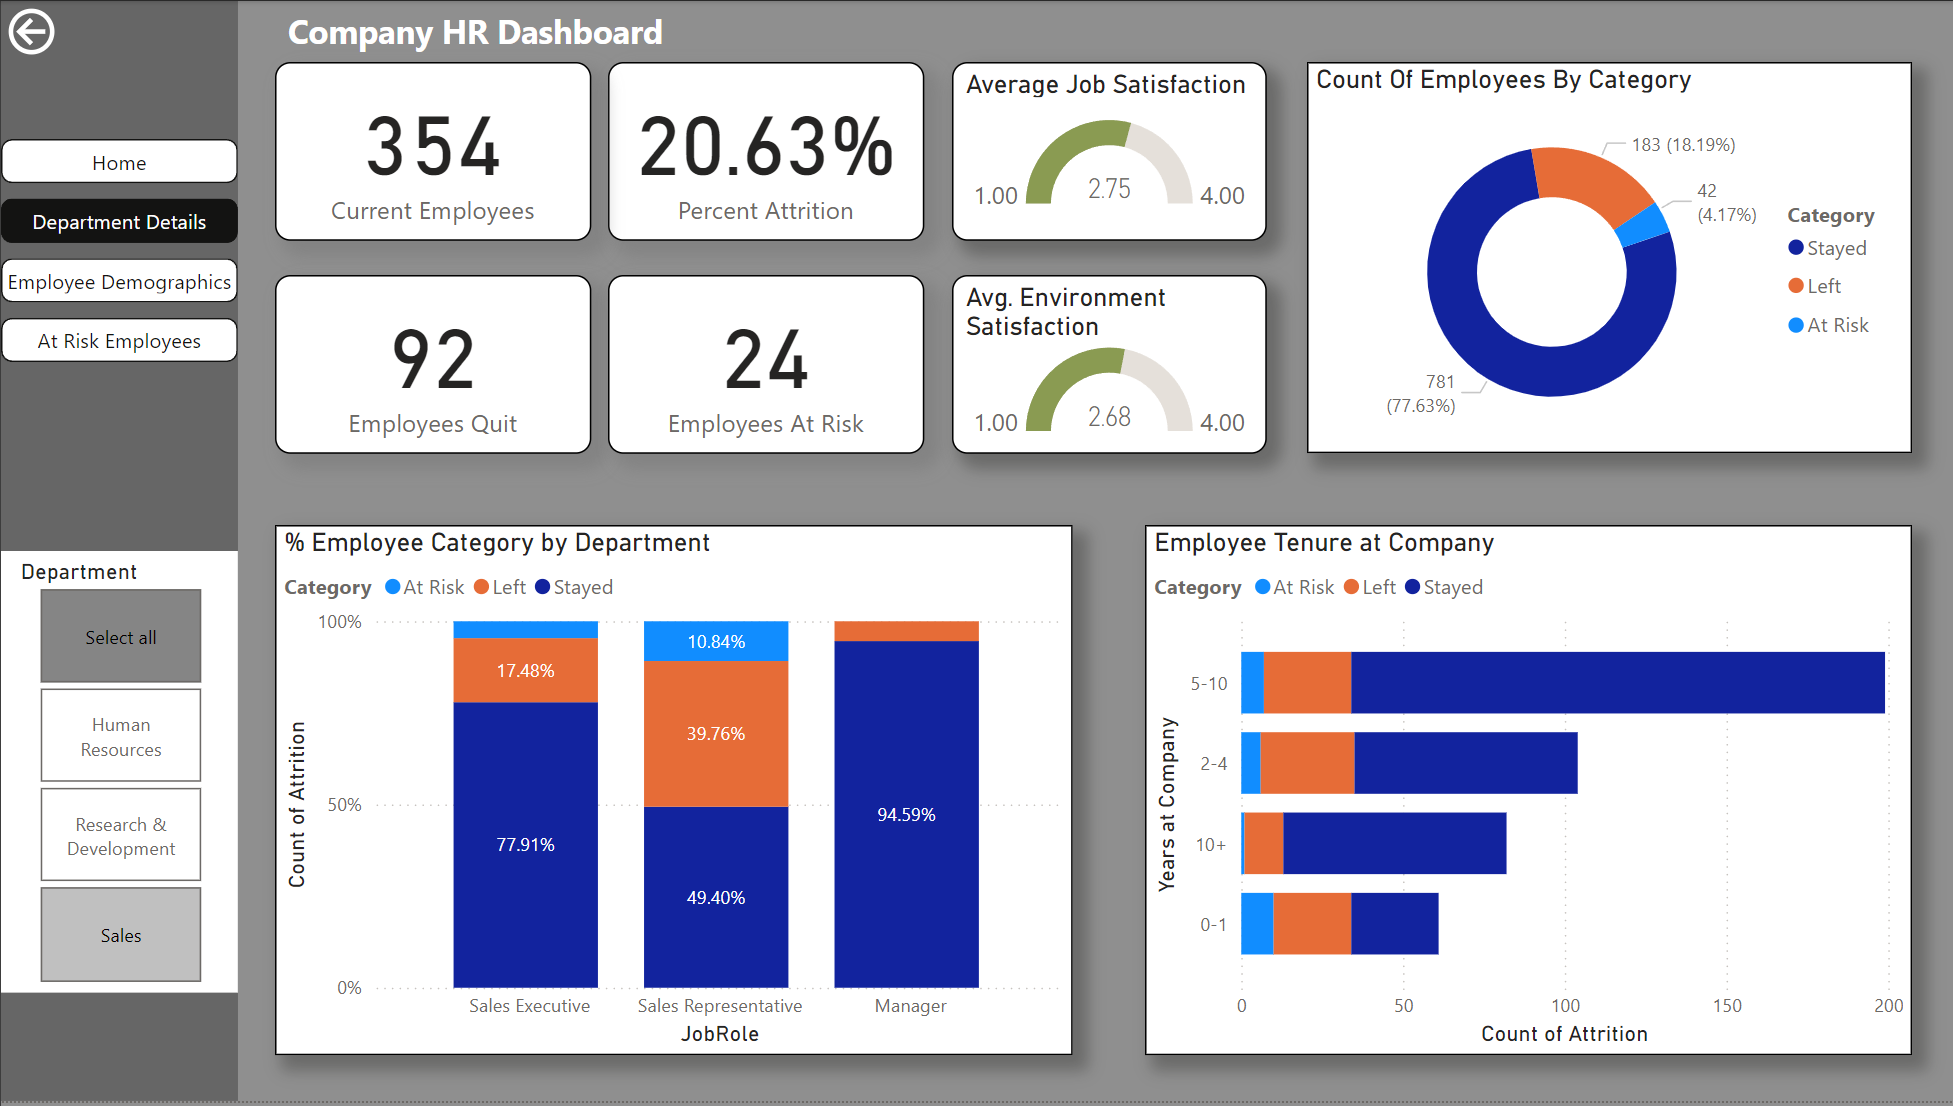

The dashboard page shown, as its layout file describes it:
{"tool":"powerbi","page":{"name":"Department Details","canvas":[1280,720],"ordinal":1},"visuals":[{"type":"shape","box":[0,0,155.3,719.6],"z":0},{"type":"card","fields":{"Values":["HR Employee Attrition.Percent Attrition"]},"box":[397.1,40,206.6,116.6],"z":1000},{"type":"card","fields":{"Values":["HR Employee Attrition.Current Employees"]},"box":[179.2,40,206.6,116.6],"z":2000},{"type":"card","fields":{"Values":["HR Employee Attrition.Employees Quit"]},"box":[179.2,179.2,206.6,116.6],"z":3000},{"type":"hundredPercentStackedColumnChart","title":"% Employee Category by Department","fields":{"Y":["CountNonNull(HR Employee Attrition.Attrition)"],"Series":["Pred_Data_HR-Employee-Attrition.Category"],"Category":["HR Employee Attrition.JobRole"]},"box":[179.2,343.2,521.7,347.2],"z":4000},{"type":"actionButton","box":[0,0,100,40],"z":5000},{"type":"donutChart","title":"Count Of Employees By Category","fields":{"Category":["Pred_Data_HR-Employee-Attrition.Category"],"Y":["Sum(HR Employee Attrition.JobLevel)"]},"box":[854.9,40,396.5,255.9],"z":6000},{"type":"card","fields":{"Values":["Pred_Data_HR-Employee-Attrition.Employees At Risk"]},"box":[397.1,179.2,206.6,116.6],"z":7000},{"type":"barChart","title":"Employee Tenure at Company","fields":{"Category":["HR Employee Attrition.YearsAtCompany_Bucket"],"Y":["CountNonNull(HR Employee Attrition.Attrition)"],"Series":["Pred_Data_HR-Employee-Attrition.Category"]},"box":[748.9,343.2,502.4,347.2],"z":8000},{"type":"gauge","title":"Average Job Satisfaction","fields":{"Y":["Avg(HR Employee Attrition.JobSatisfaction)"]},"box":[622.3,40,205.9,116.6],"z":9000},{"type":"gauge","title":"Avg. Environment Satisfaction","fields":{"Y":["Avg(HR Employee Attrition.EnvironmentSatisfaction)"]},"box":[622.3,179.2,205.9,116.6],"z":10000},{"type":"slicer","fields":{"Values":["HR Employee Attrition.Department"]},"box":[0,359.8,155.3,288.5],"z":11000},{"type":"pageNavigator","box":[0,90.6,155.3,147.3],"z":12000},{"type":"textbox","title":"CCc","box":[167.5,0,286,39.9],"z":13000}]}

Visuals, with their boxes in screenshot pixels (x1, y1, x2, y2), scaled from the page's 1280x720 canvas onto the 1953x1106 screenshot:
shape: pyautogui.locateOnScreen(0, 0, 237, 1105)
card - HR Employee Attrition.Percent Attrition: pyautogui.locateOnScreen(606, 61, 921, 241)
card - HR Employee Attrition.Current Employees: pyautogui.locateOnScreen(273, 61, 589, 241)
card - HR Employee Attrition.Employees Quit: pyautogui.locateOnScreen(273, 275, 589, 454)
"% Employee Category by Department" hundredPercentStackedColumnChart: pyautogui.locateOnScreen(273, 527, 1069, 1061)
actionButton: pyautogui.locateOnScreen(0, 0, 153, 61)
"Count Of Employees By Category" donutChart: pyautogui.locateOnScreen(1304, 61, 1909, 455)
card - Pred_Data_HR-Employee-Attrition.Employees At Risk: pyautogui.locateOnScreen(606, 275, 921, 454)
"Employee Tenure at Company" barChart: pyautogui.locateOnScreen(1143, 527, 1909, 1061)
"Average Job Satisfaction" gauge: pyautogui.locateOnScreen(949, 61, 1264, 241)
"Avg. Environment Satisfaction" gauge: pyautogui.locateOnScreen(949, 275, 1264, 454)
slicer - HR Employee Attrition.Department: pyautogui.locateOnScreen(0, 553, 237, 996)
pageNavigator: pyautogui.locateOnScreen(0, 139, 237, 365)
"CCc" textbox: pyautogui.locateOnScreen(256, 0, 692, 61)
